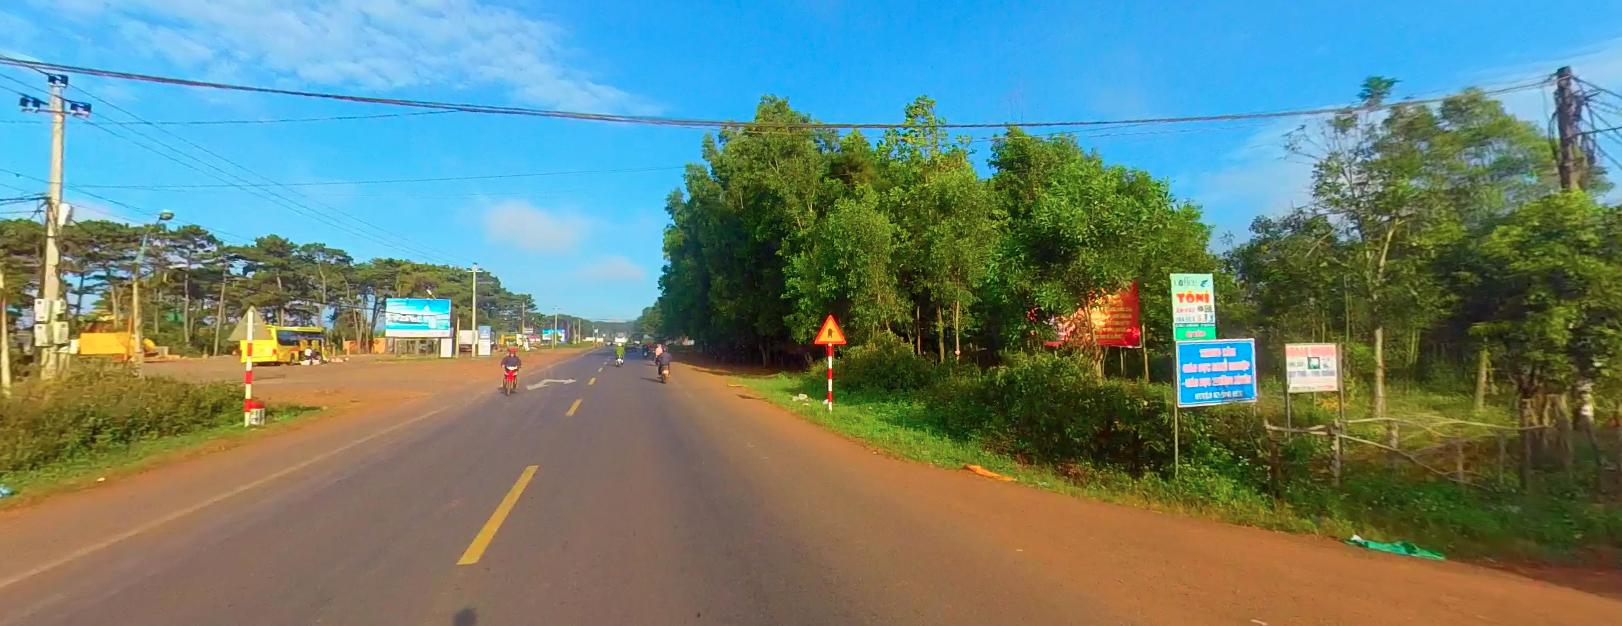Nguy hiem: (814, 310, 846, 342), (814, 314, 845, 342)
